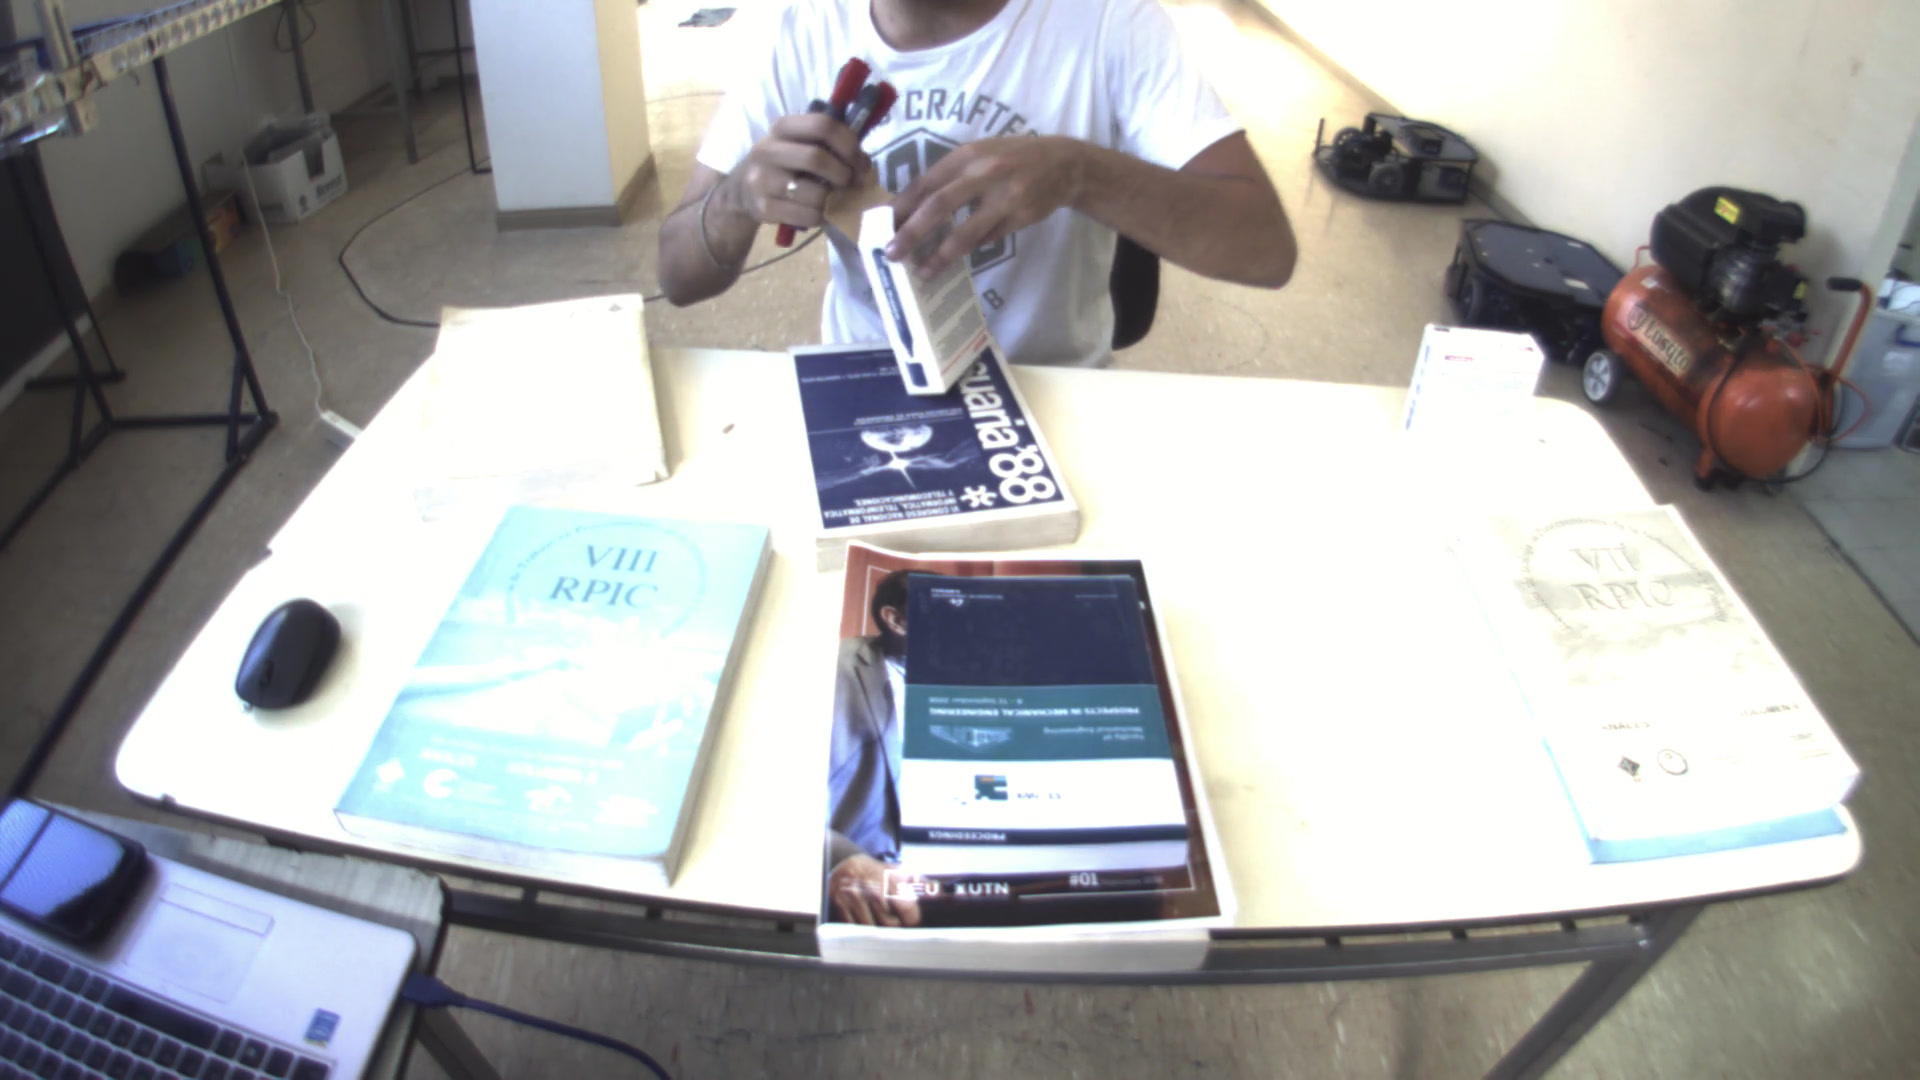hand: (874, 123, 1073, 266), (728, 104, 872, 243)
